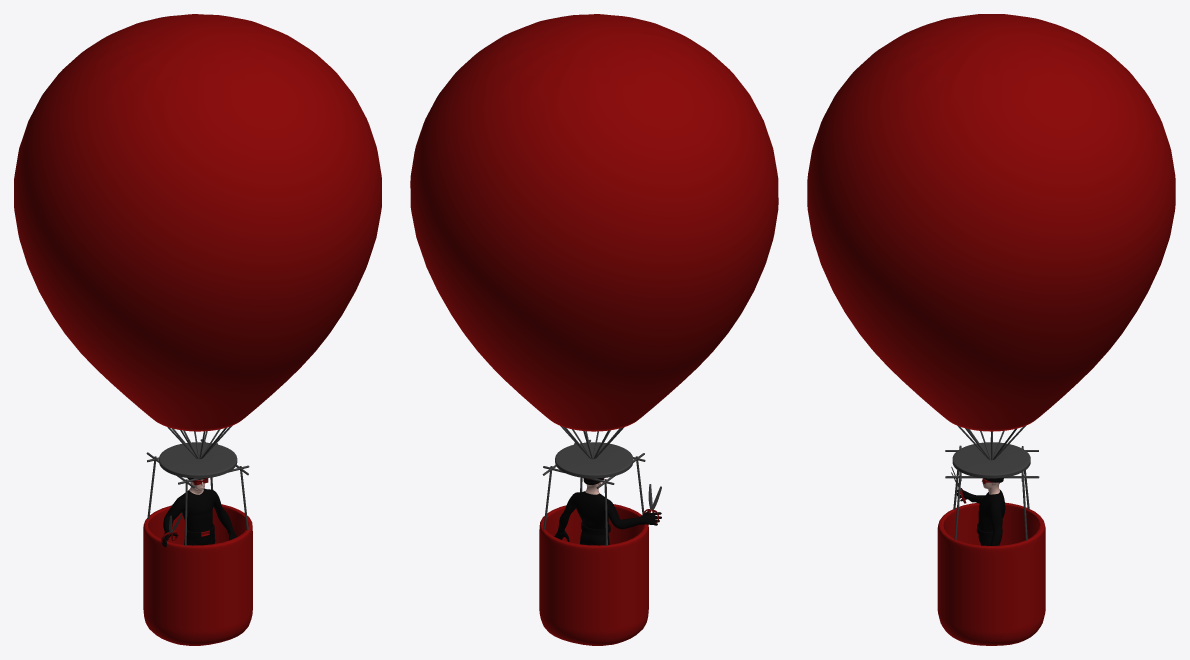
Rendered from Enemy_finalFixed.fbx.
3 renders of one model, left to right at view 1: azimuth 30°, elevation 25°; view 2: azimuth 150°, elevation 25°; view 3: azimuth 270°, elevation 25°, orthographic.
Parts seen in each view (by area): view 1: pSphere1, pCube1, BodyMesh:Mesh, pCylinder9; view 2: pSphere1, pCube1, BodyMesh:Mesh, pCylinder9; view 3: pSphere1, pCube1, pCylinder9, BodyMesh:Mesh.
Boxes of the visible parts, <box> form: pSphere1: <box>14,14,381,431</box>; pCube1: <box>143,504,252,645</box>; BodyMesh:Mesh: <box>161,479,236,547</box>; pCylinder9: <box>159,442,237,478</box>; pSphere1: <box>410,14,778,431</box>; pCube1: <box>539,504,648,645</box>; BodyMesh:Mesh: <box>554,482,661,545</box>; pCylinder9: <box>555,442,633,478</box>; pSphere1: <box>807,14,1175,431</box>; pCube1: <box>937,502,1045,645</box>; pCylinder9: <box>952,442,1030,478</box>; BodyMesh:Mesh: <box>957,479,1005,545</box>.
Size of the model in its own units: 6.09 by 10.94 by 6.08.
